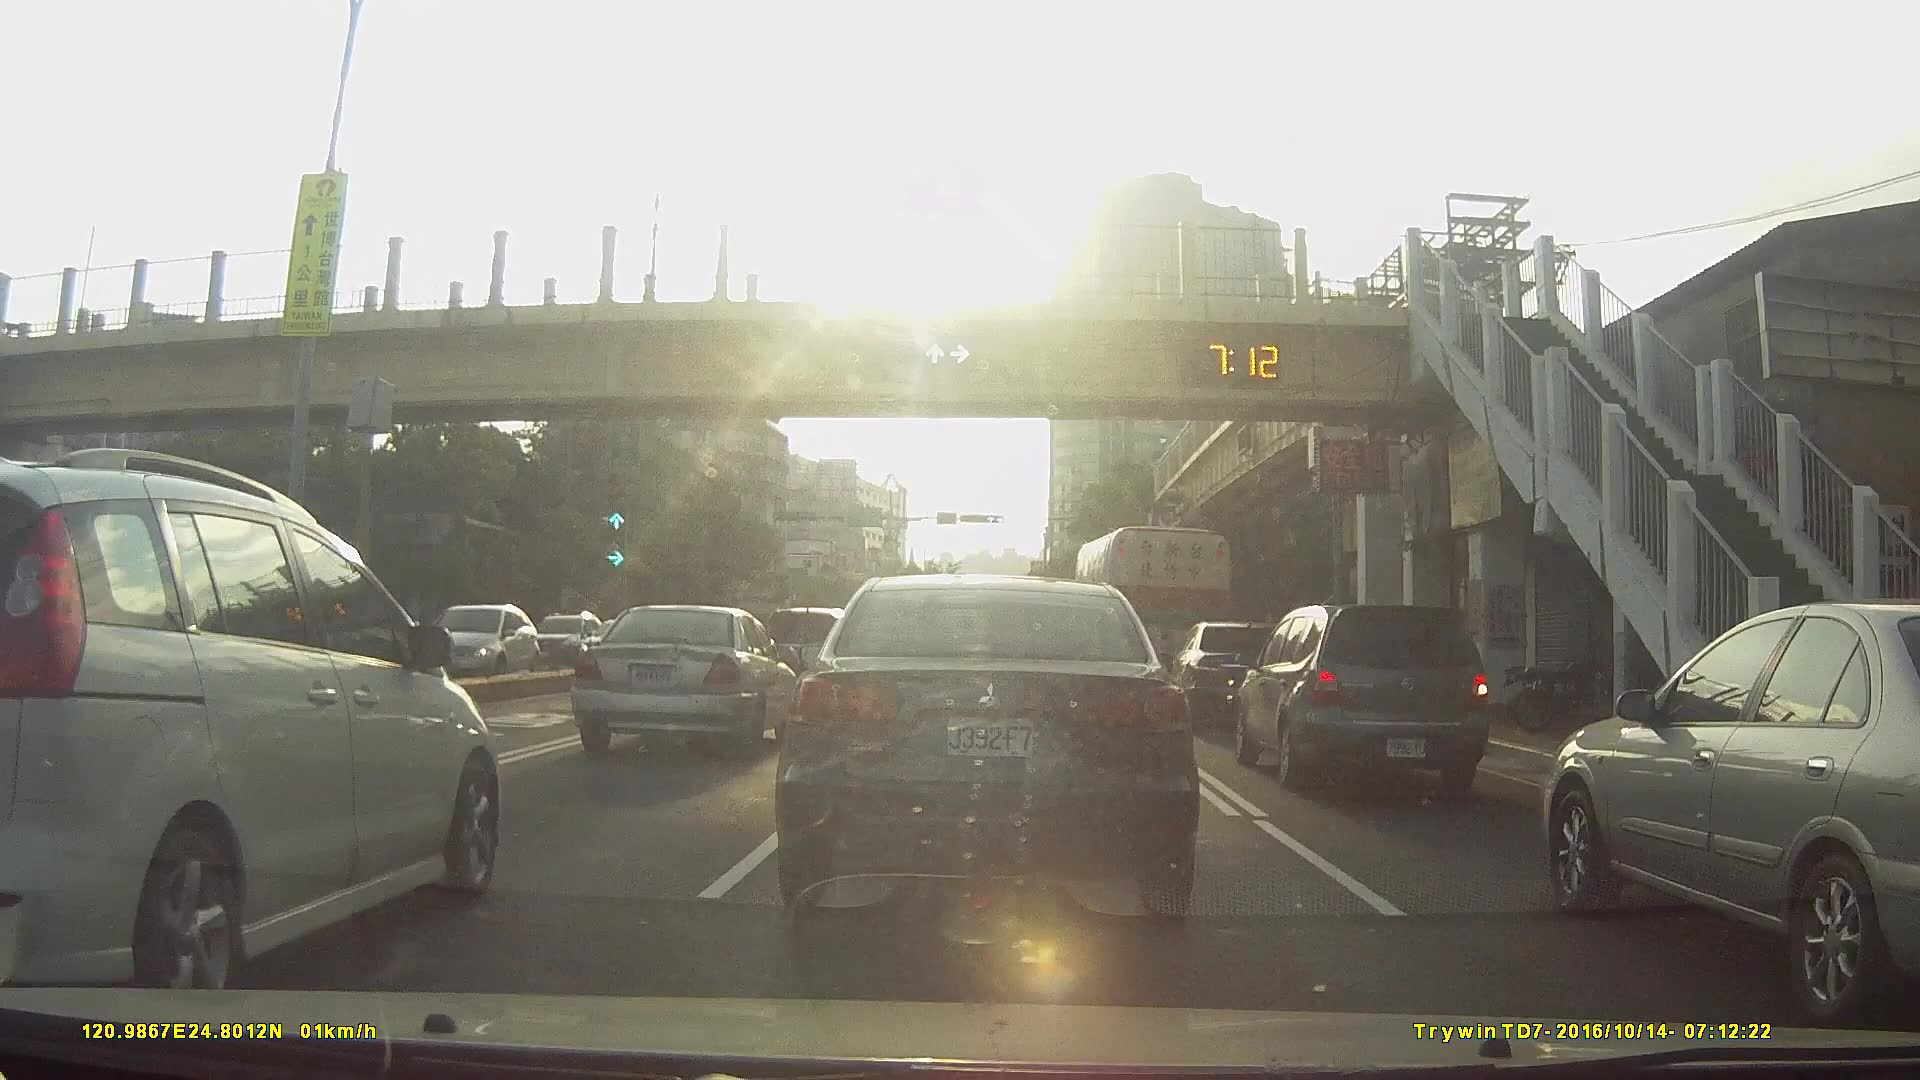vehicle: (0, 450, 512, 1011), (1545, 597, 1920, 1029), (782, 574, 1200, 930), (1232, 605, 1491, 795), (579, 604, 808, 756), (1171, 622, 1298, 727), (742, 604, 843, 700), (425, 601, 550, 678), (518, 611, 621, 678), (564, 617, 654, 674)
